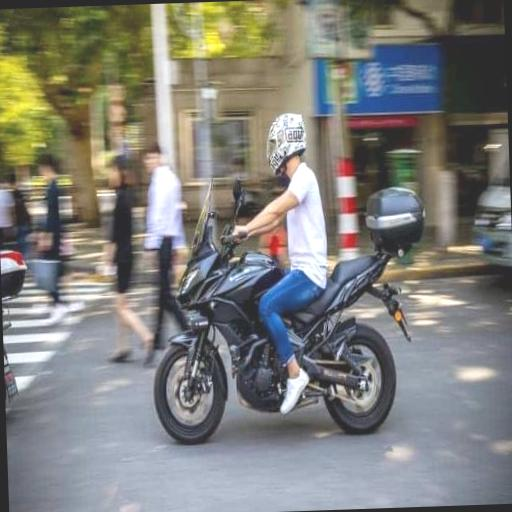helmet: (239, 86, 343, 432)
